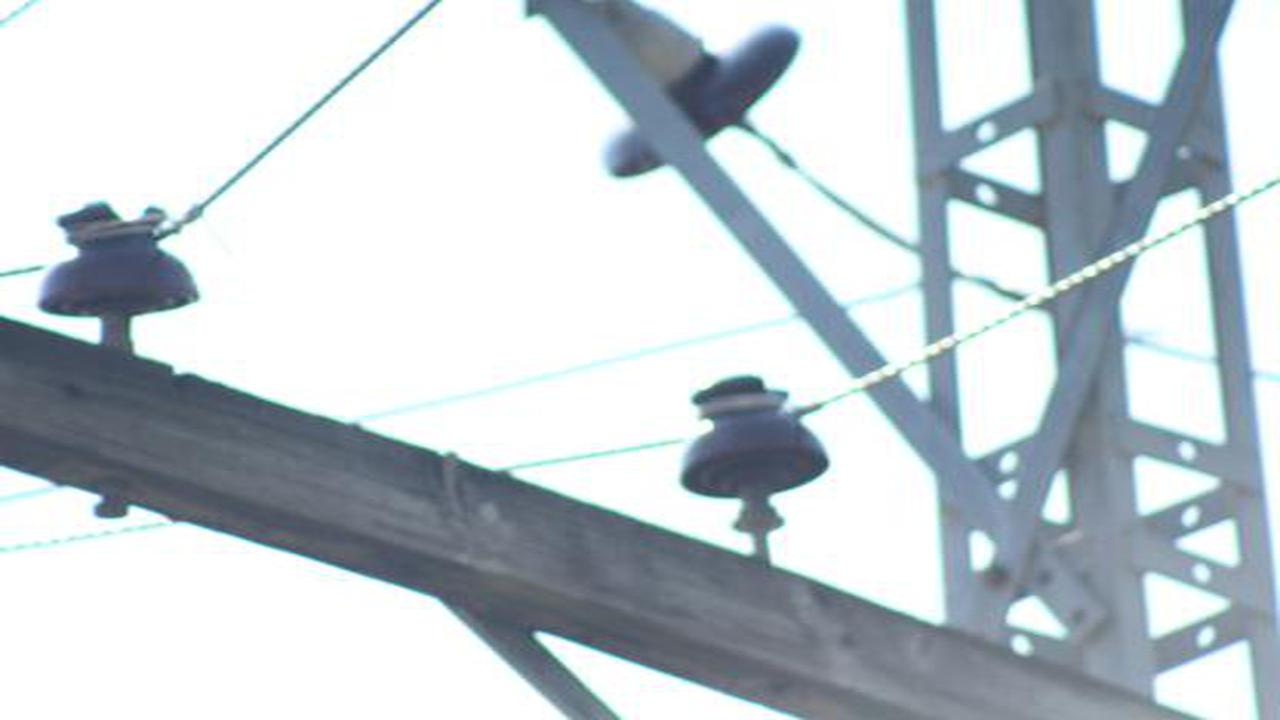insulator_pin: (675, 369, 837, 519), (33, 189, 209, 324)
